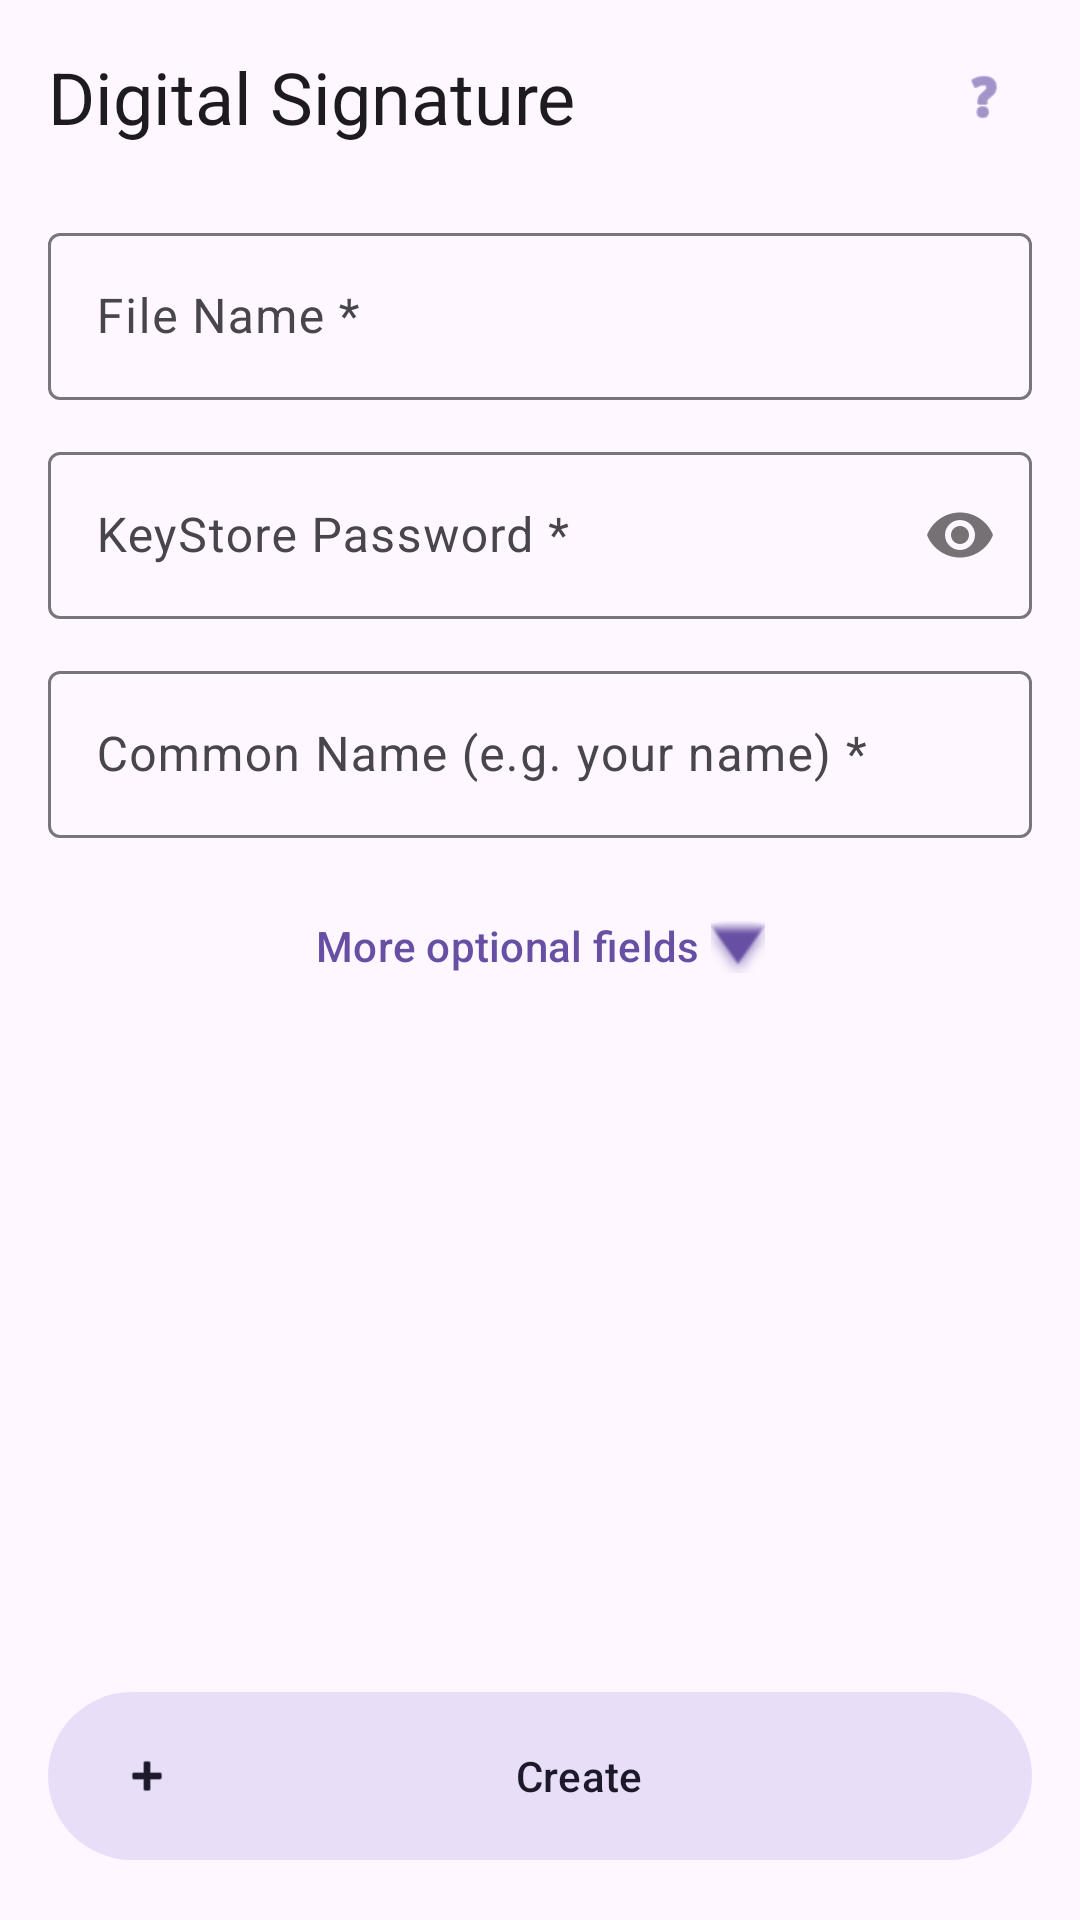

Icons on this 1080 x 1920 Android screen, each with its box as (x1, y1, x2, y2):
help: (971, 76, 997, 118)
